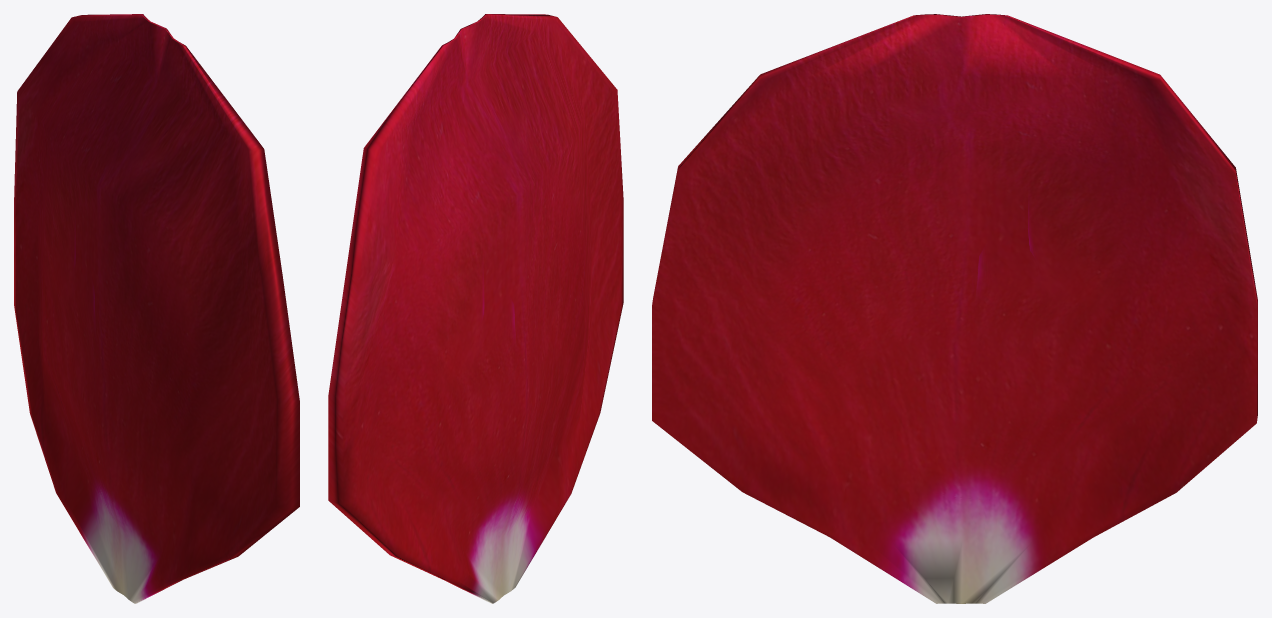
File: rosePetal.fbx
3 views of the same model, side by side, from view 1: azimuth 30°, elevation 25°; view 2: azimuth 150°, elevation 25°; view 3: azimuth 270°, elevation 25° (orthographic). The views are drawn at different scales.
Parts seen in each view (by area): view 1: petal; view 2: petal; view 3: petal.
Part boxes in pixels (x1=…): petal: x1=14, y1=14, x2=299, y2=603; petal: x1=328, y1=14, x2=623, y2=603; petal: x1=652, y1=14, x2=1257, y2=603.
Size of the model in its own units: 8.9 by 66.61 by 60.09.
